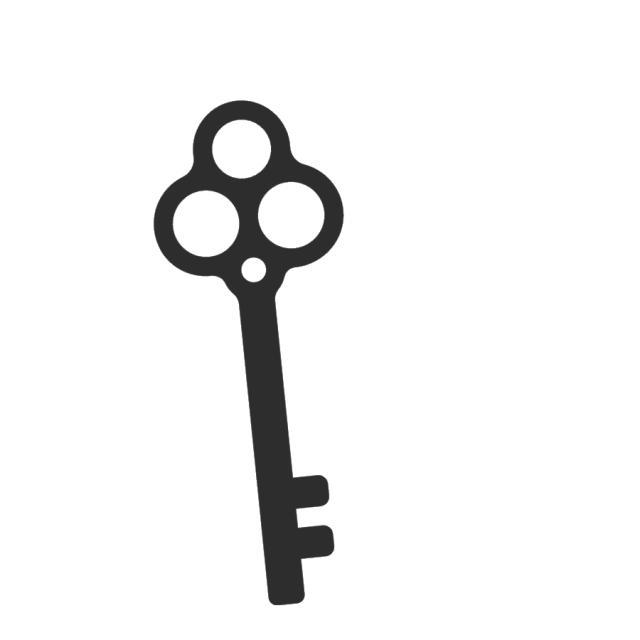key: (146, 95, 352, 615)
